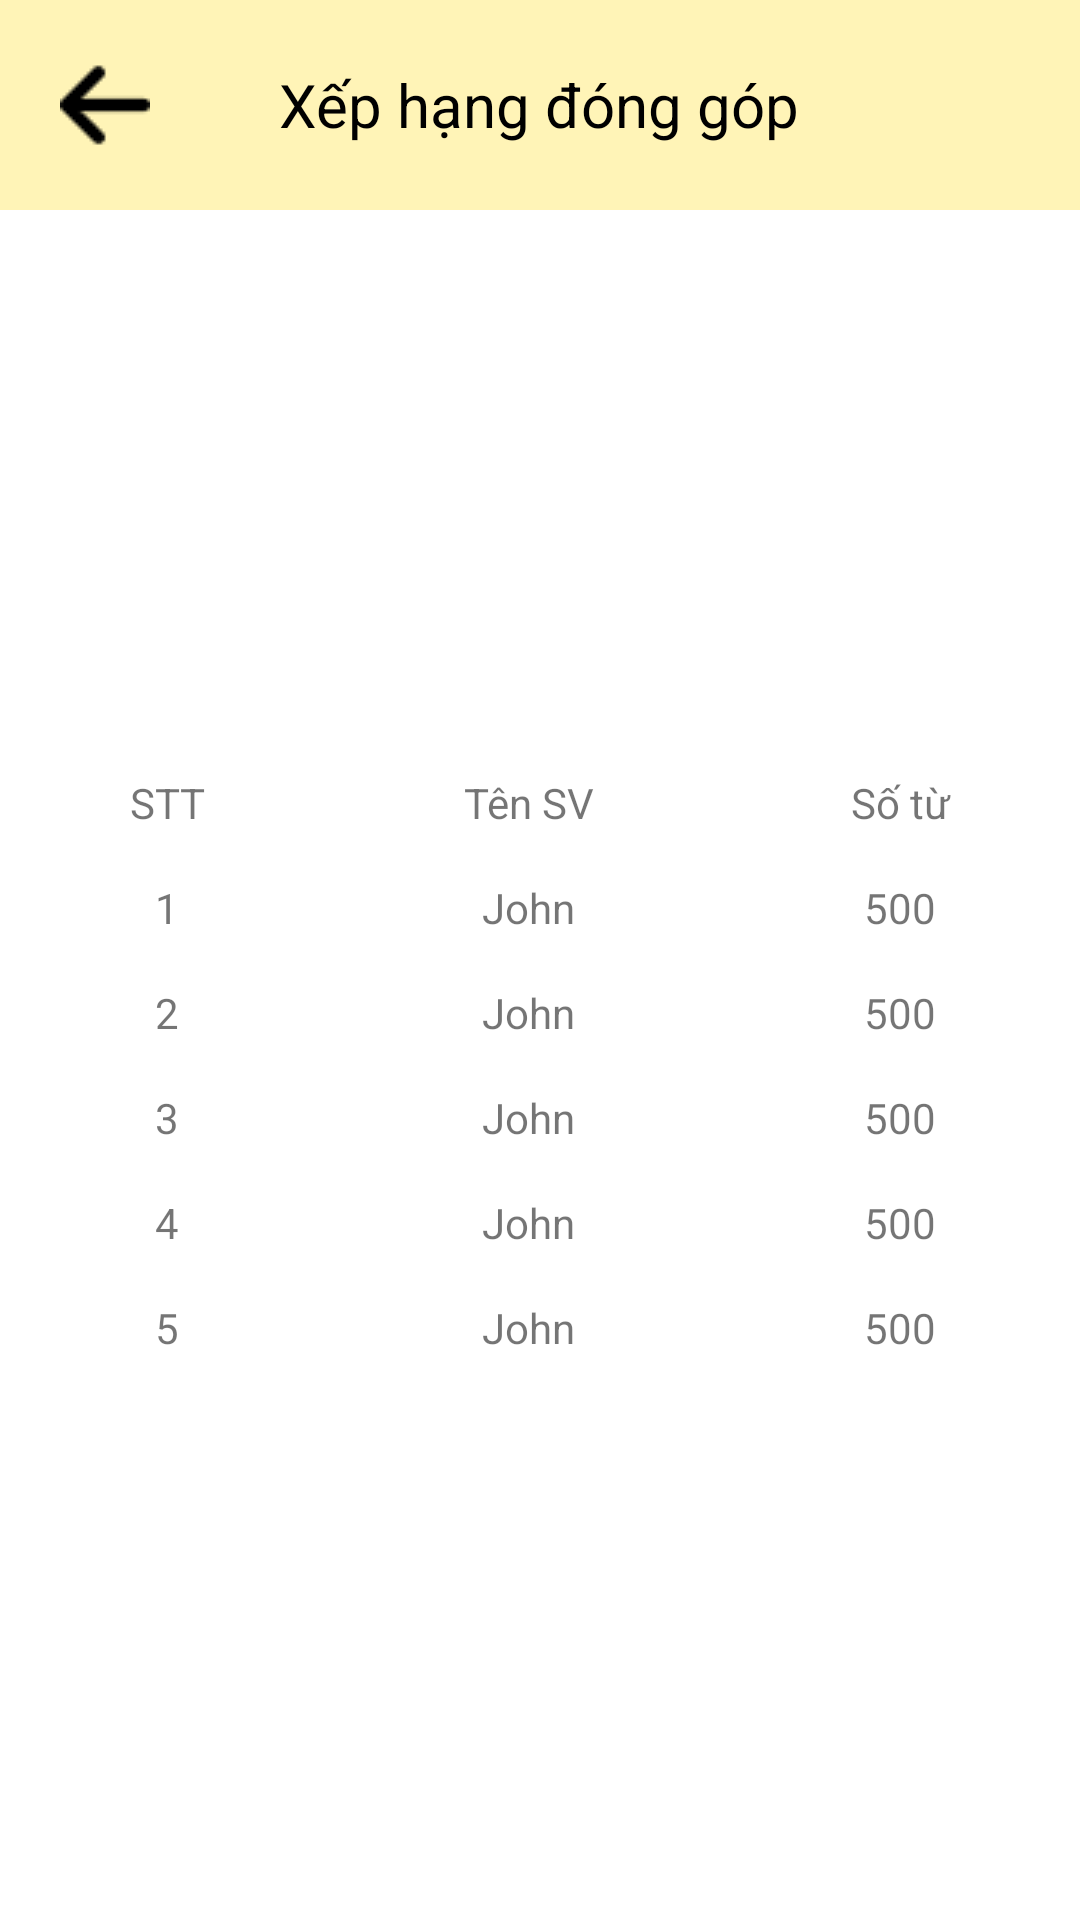

Point at icon controls on the screen. Image size 1080px x 1920px, points as point (x, y).
back: point (105, 105)
